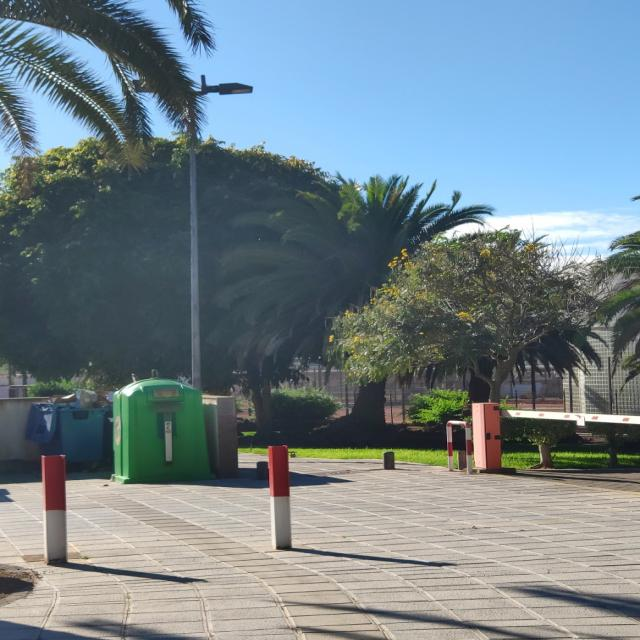Palm-Trees: (240, 175, 486, 428)
